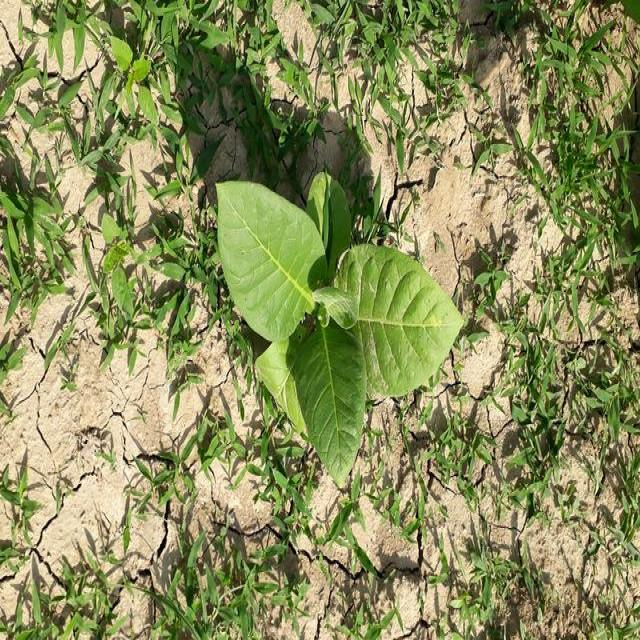crop: (214, 175, 462, 461)
